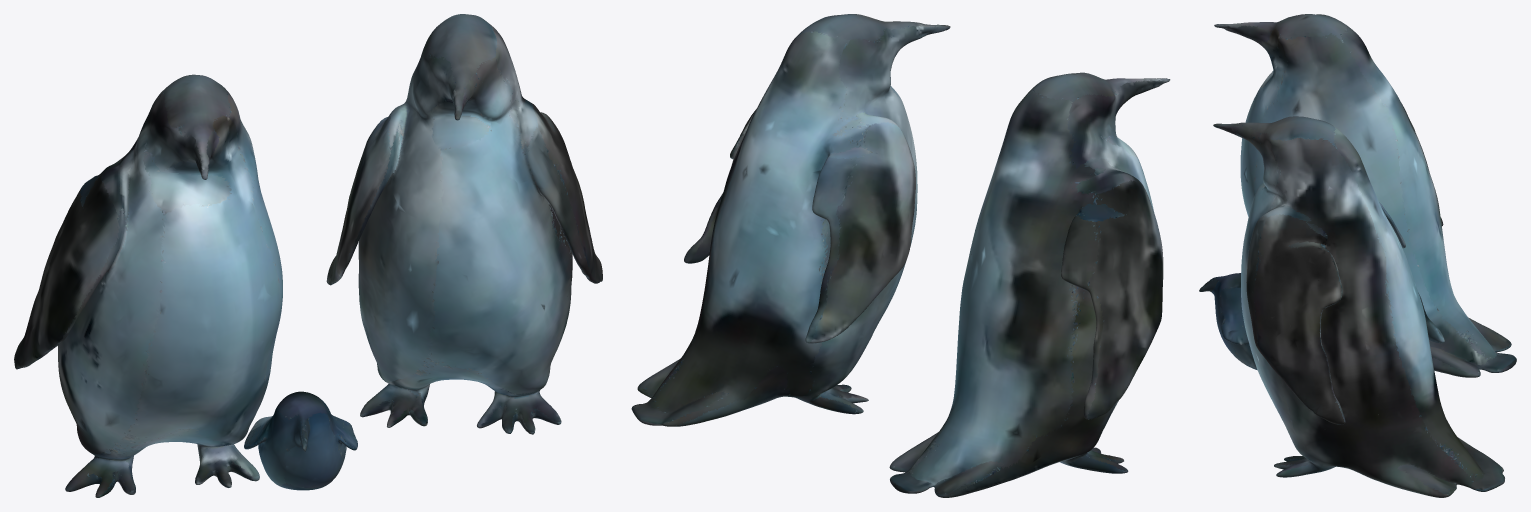
File: Wilsons_Vigil-optimized.glb
The picture shows the model from 3 angles, left to right: view 1: azimuth 30°, elevation 25°; view 2: azimuth 150°, elevation 25°; view 3: azimuth 270°, elevation 25°; orthographic projection. The views are drawn at different scales.
Bounding box in the file's own units: 2 × 1.45 × 1.26.
Materials: 1 (1 with a texture image).
